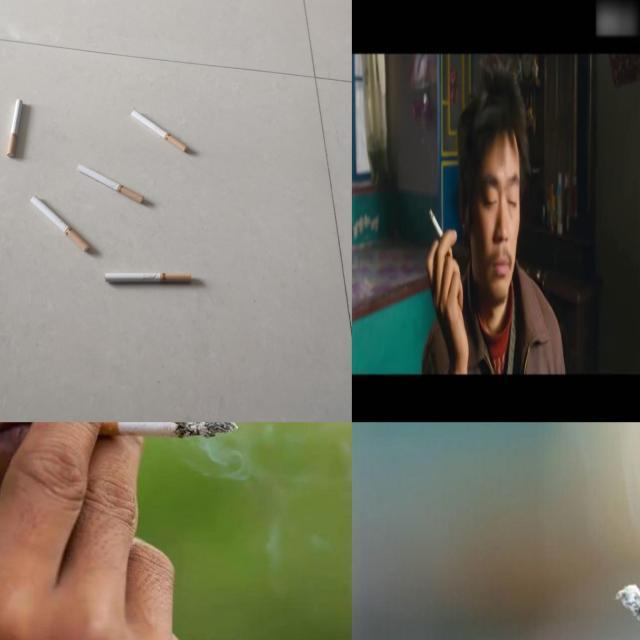smoking: (30, 196, 91, 252), (38, 422, 238, 438), (77, 164, 145, 204), (130, 110, 188, 152), (428, 208, 452, 258), (8, 99, 24, 157), (104, 272, 192, 282)
